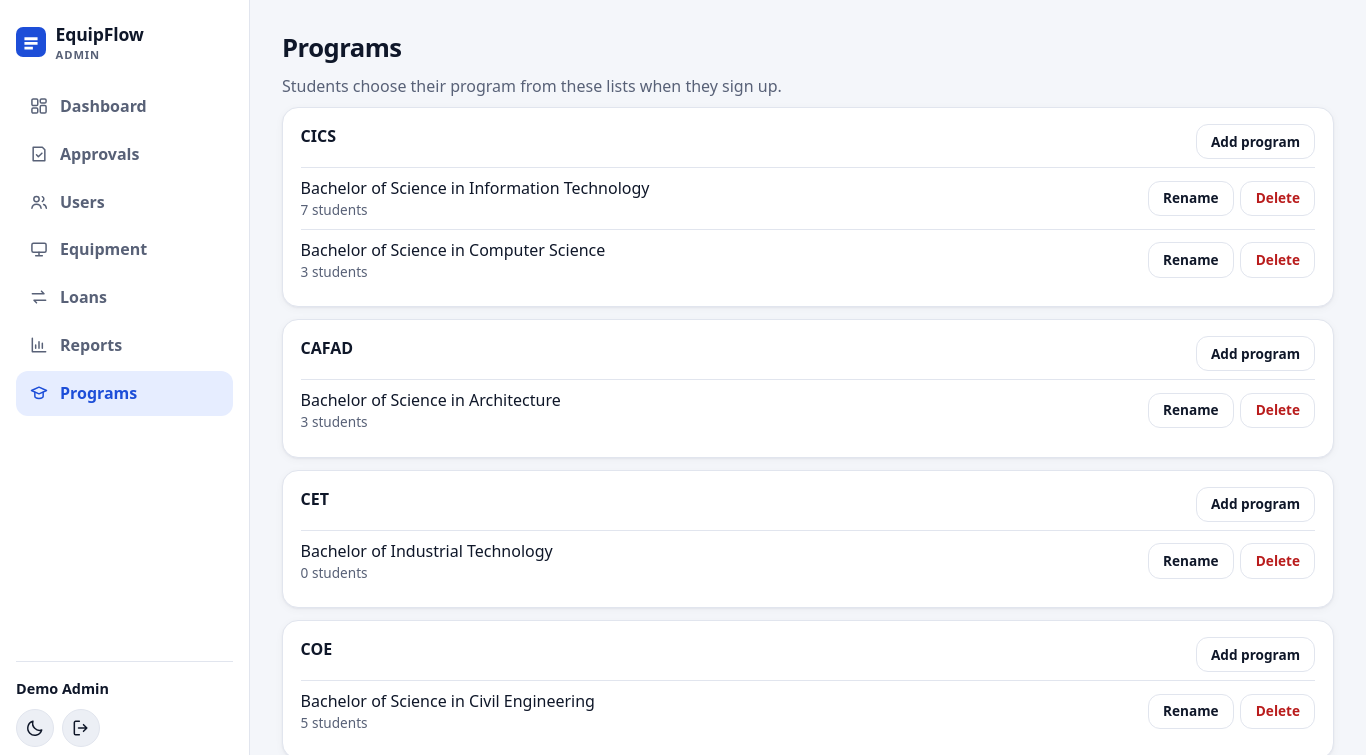
Test: Programs › adds a program to a department
Click the button with aria-label "Add program to CICS".
click(1255, 142)  # box [1196, 124, 1315, 159]
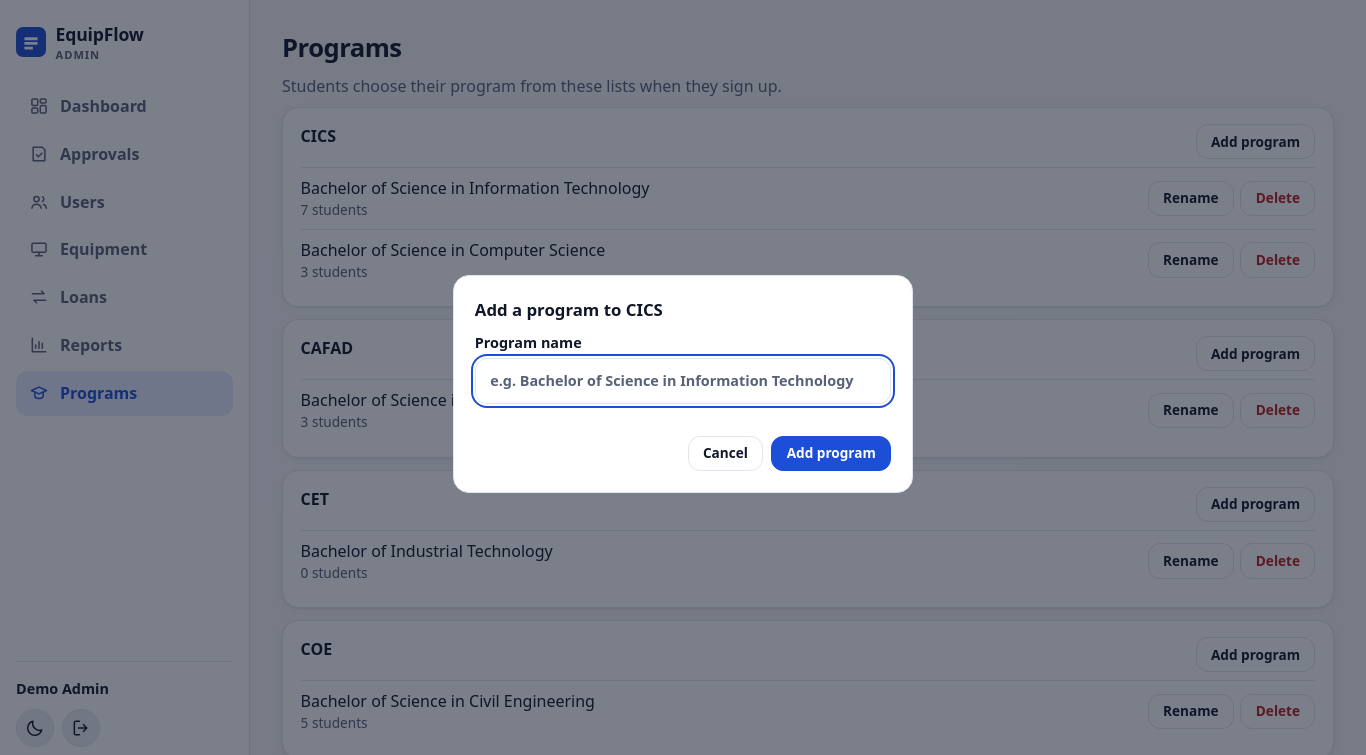
Type "  BS Data Science " into the field labelled "Program name".
click(683, 381); type("  BS Data Science ")  # box [475, 358, 891, 404]
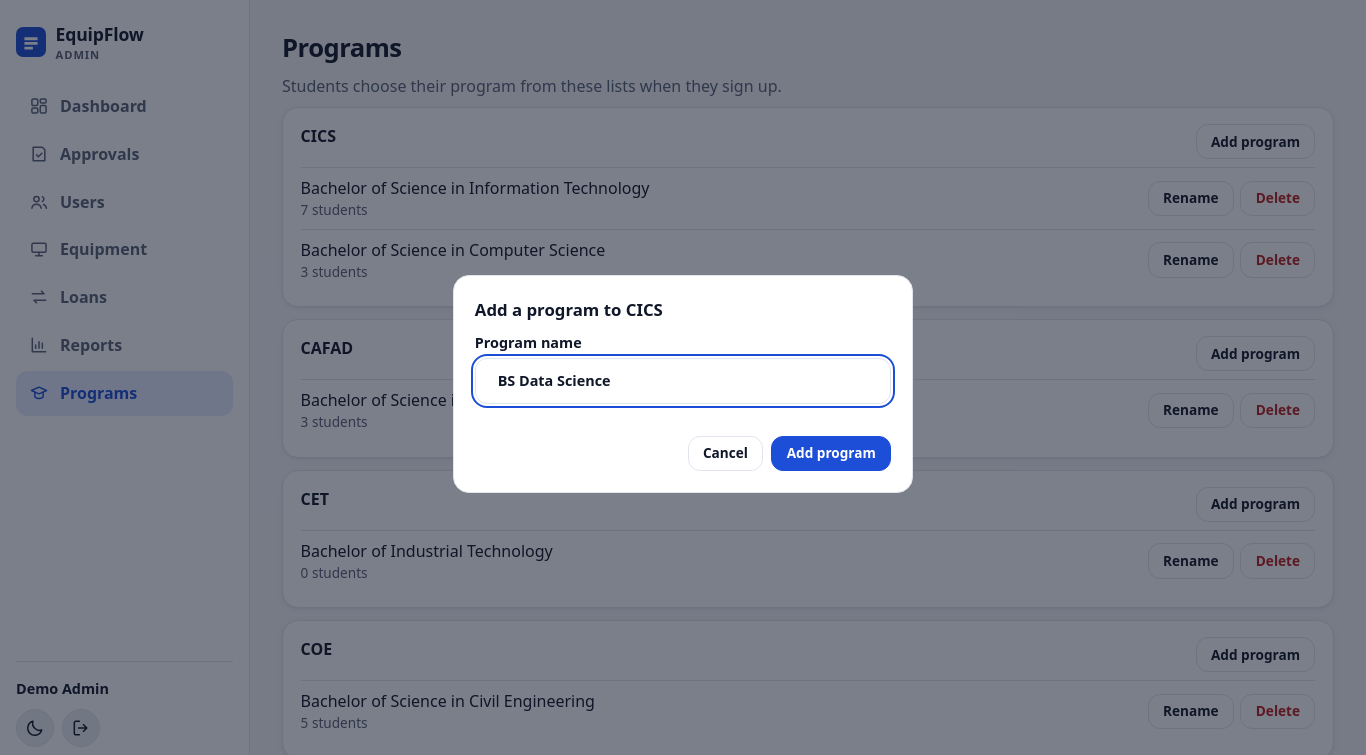
Click the button "Add program".
click(831, 454)  # box [771, 436, 891, 471]
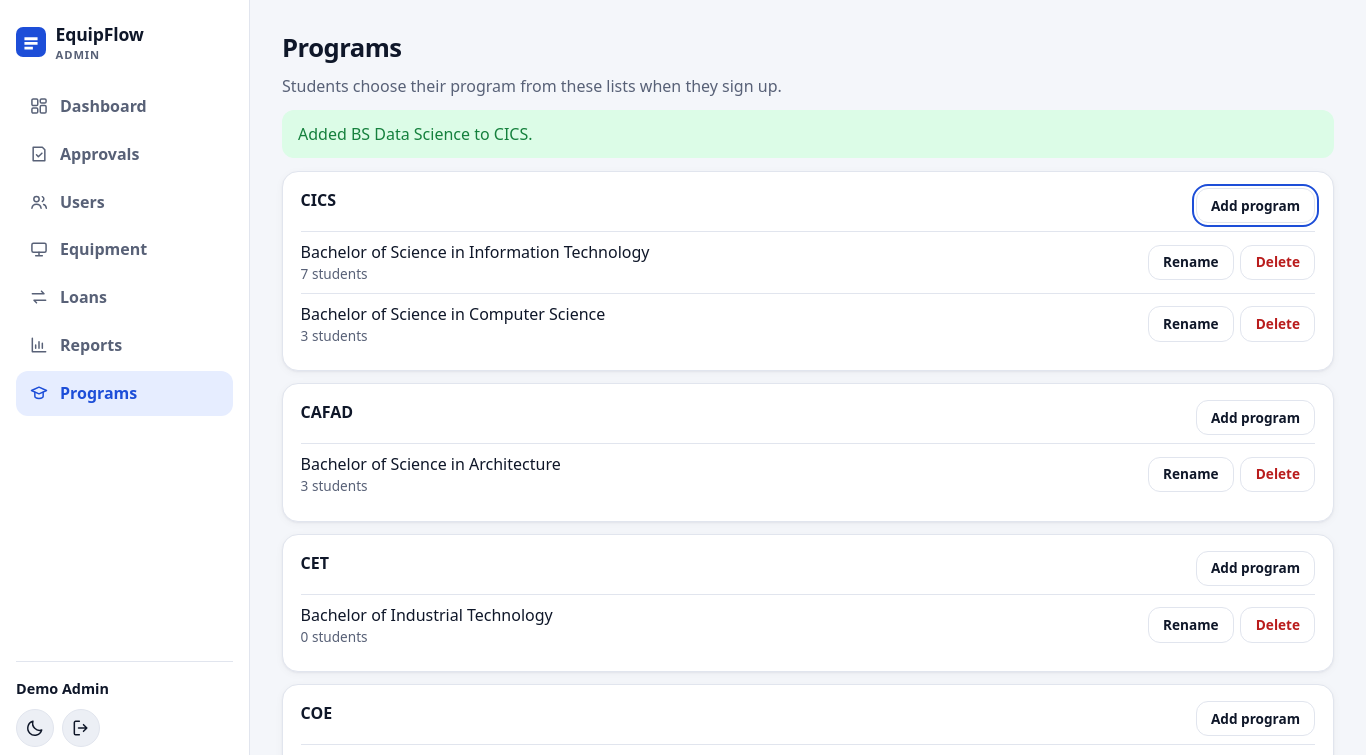
Result: the message reads "Added BS Data Science to CICS." at [298, 123, 532, 145]
